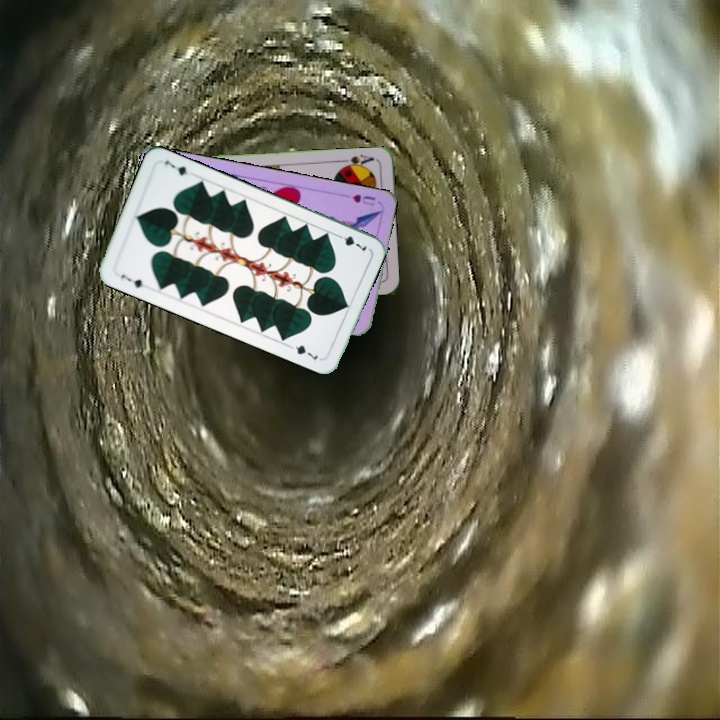G7: (332, 230, 369, 255), (117, 271, 150, 291)
HU: (348, 190, 378, 208)
SA: (337, 151, 376, 171)
